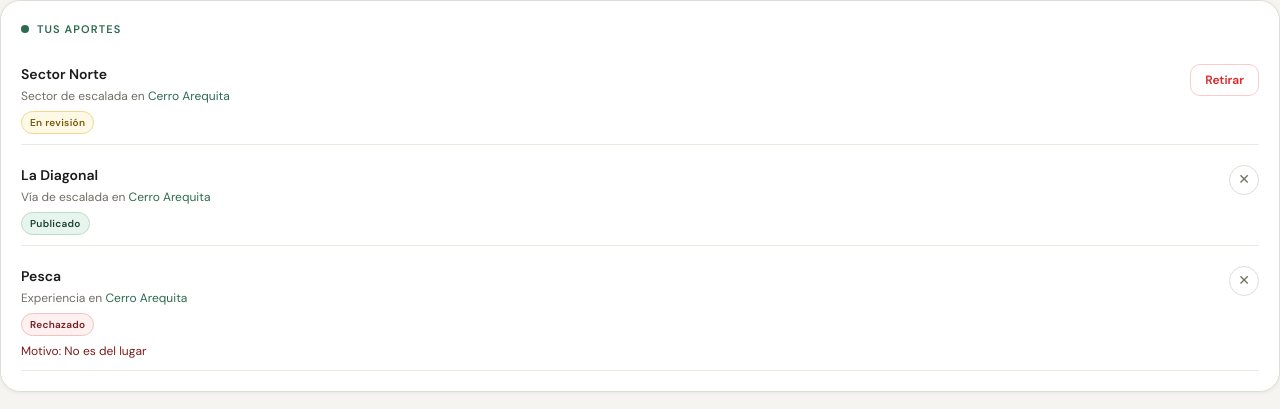
Test: MyContributionsCard › cerrar el aviso de uno resuelto
The width and height of the screenshot is (1280, 409).
Click the button named "Cerrar aviso de Pesca" at (1244, 280), box [1229,266,1259,296]
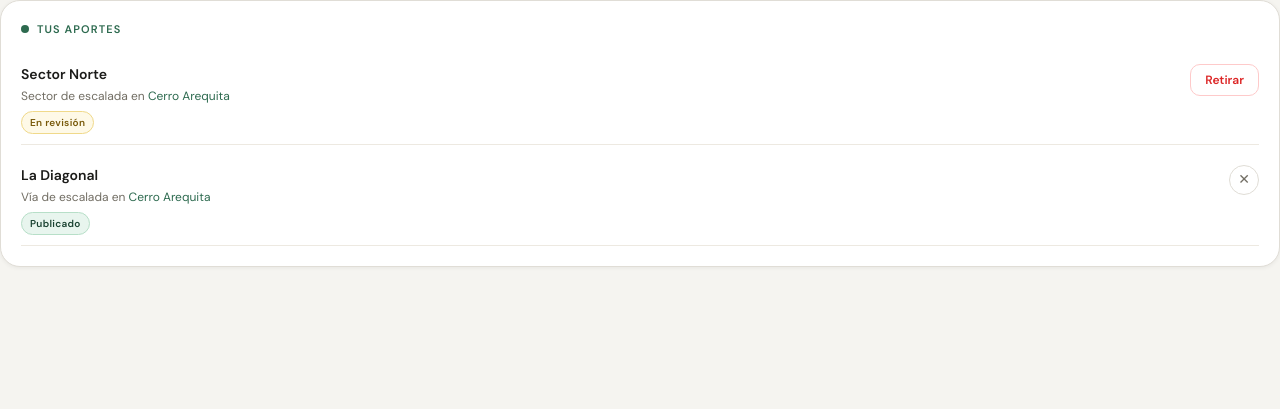
Result: the text "Pesca" is gone
